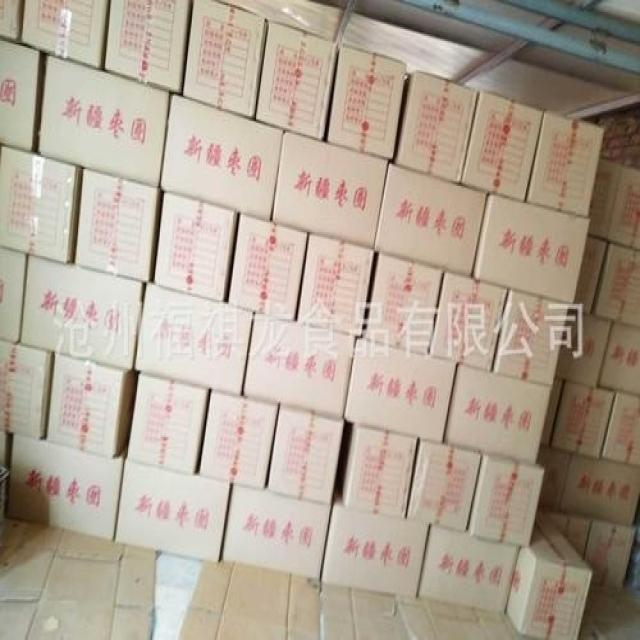Carton: (0, 0, 603, 638), (9, 357, 125, 541), (550, 382, 639, 527), (256, 22, 334, 138), (461, 89, 536, 196), (594, 244, 639, 394), (23, 0, 105, 65)
